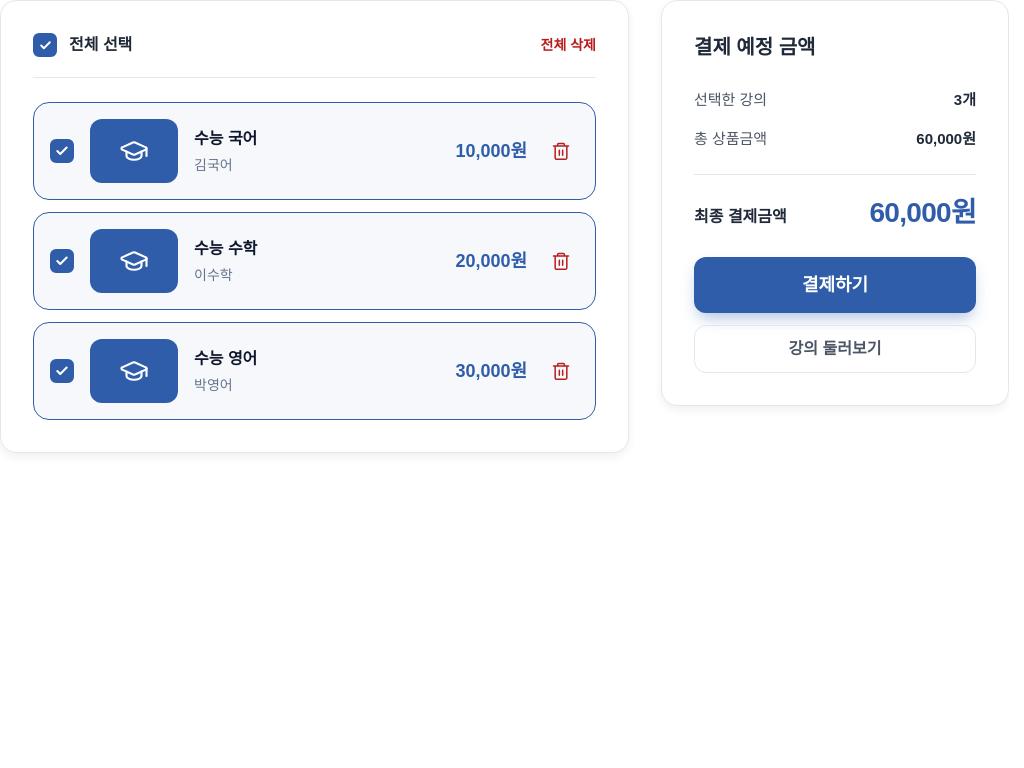
Scenario: CartClient — 장바구니 통합 › 개별 삭제 → 확인 모달 → 액션 호출 → optimistic 제거 › 휴지통 클릭 시 단건 확인 모달이 뜬다
Click the button named "수능 국어 삭제".
click(561, 151)  # box top-left (543, 133), bottom-right (579, 169)
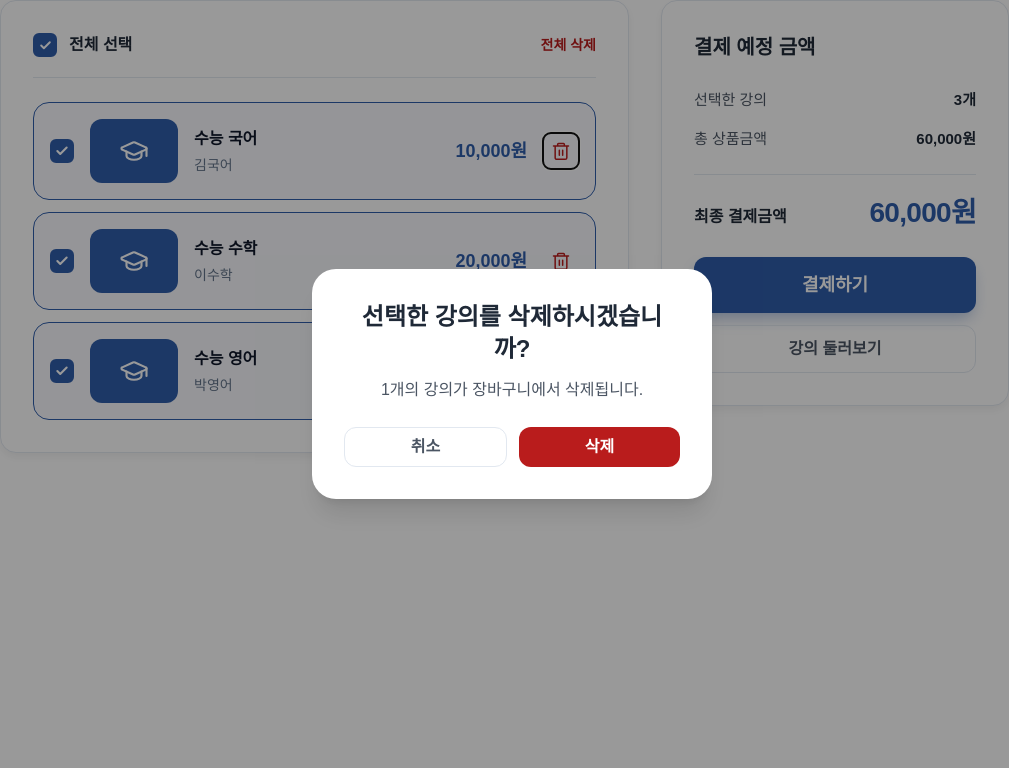
Now the heading "선택한 강의를 삭제하시겠습니까?" is shown, box top-left (344, 301), bottom-right (680, 365)
Now the text "1개의 강의가 장바구니에서 삭제됩니다." is shown, box top-left (381, 381), bottom-right (643, 398)
